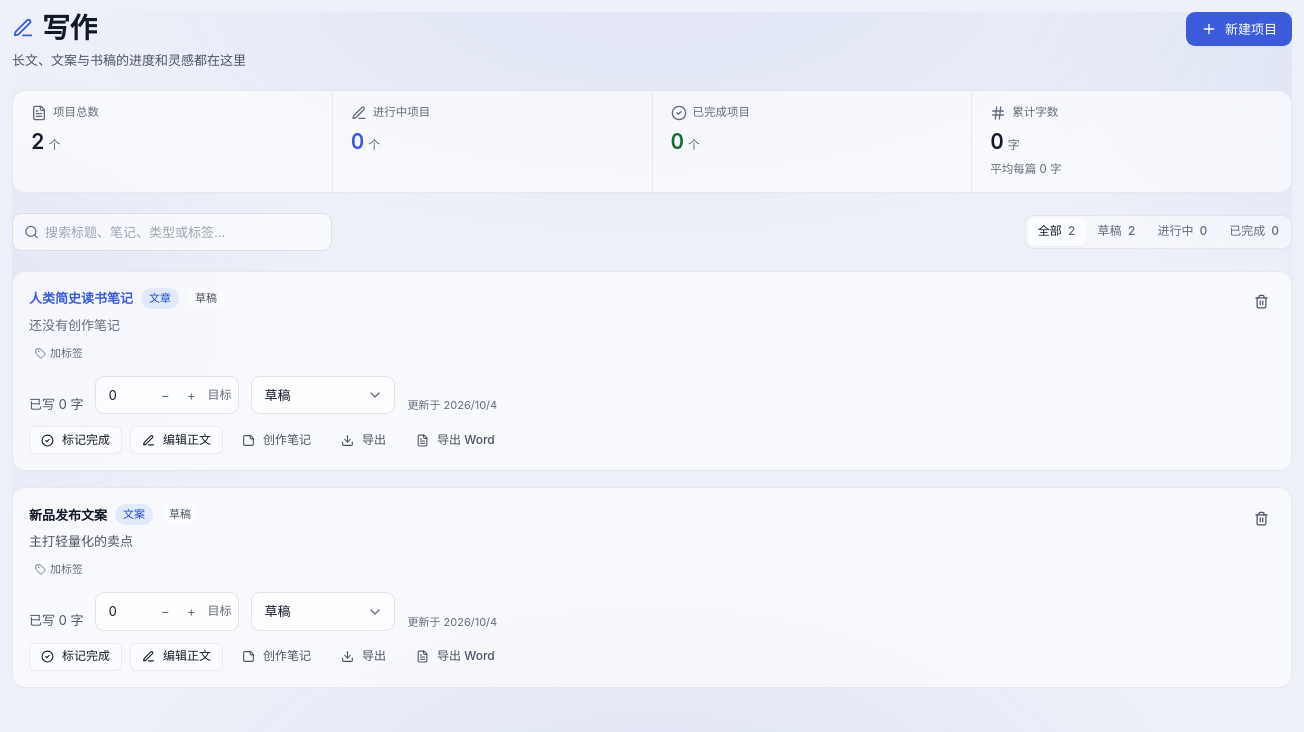
Test: WritingPage › 可以按标题和创作笔记搜索
The image size is (1304, 732).
Type "简史" into the field labelled "搜索".
click(172, 232); type("简史")  # box [12,212,332,251]
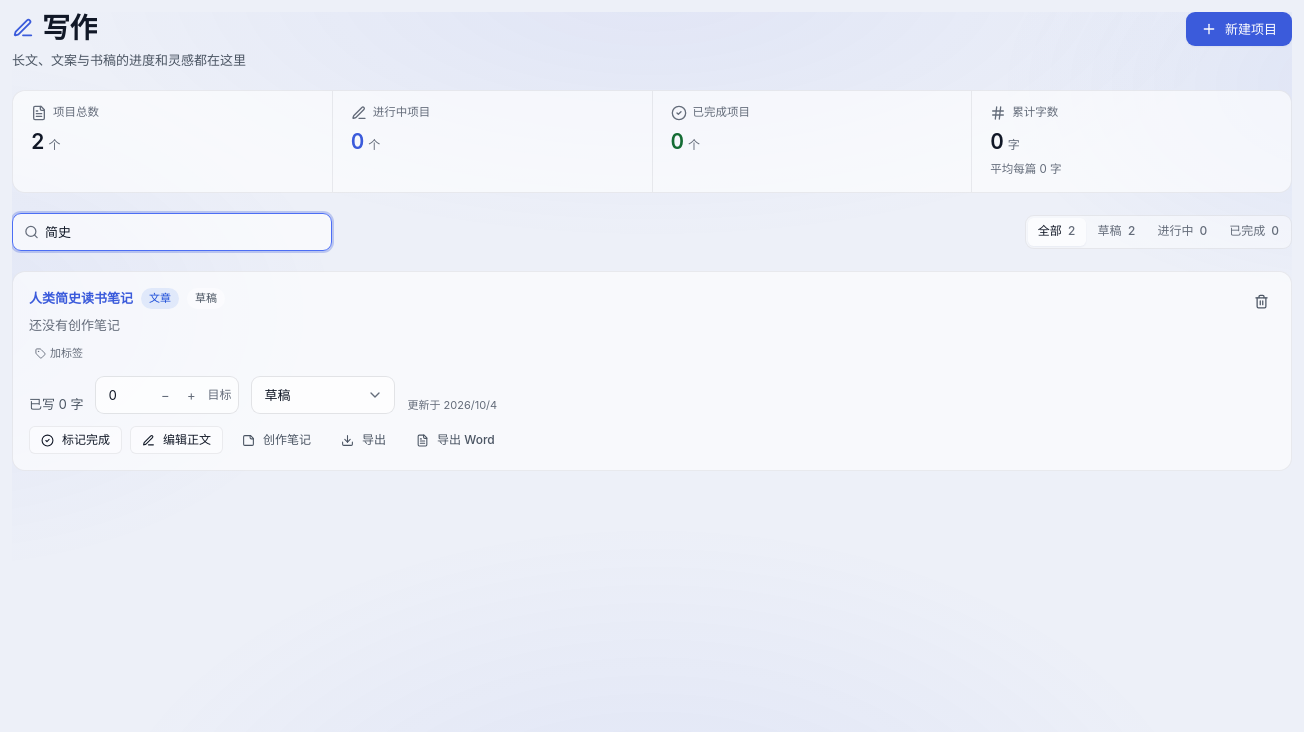
Expected: the button "人类简史读书笔记" is shown, [29,288,133,308]
Expected: the button "新品发布文案" is gone
Replace the text in the field named "搜索" with "轻量化" at (172,232), box [12,212,332,251]
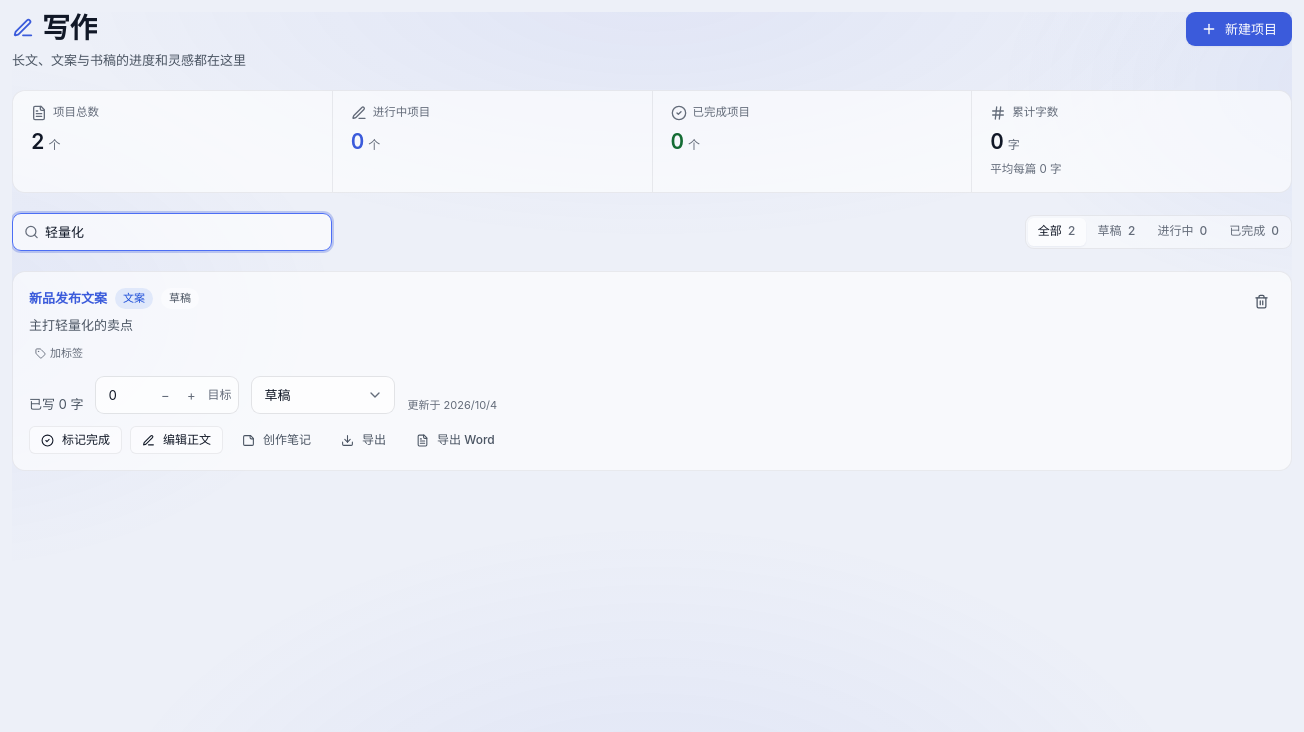
Expected: the button "新品发布文案" is shown, [29,288,107,308]
Expected: the button "人类简史读书笔记" is gone
